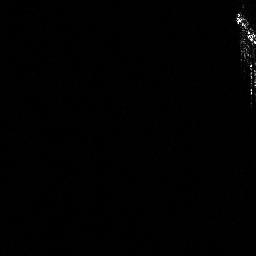ship: (232, 9, 256, 105)
